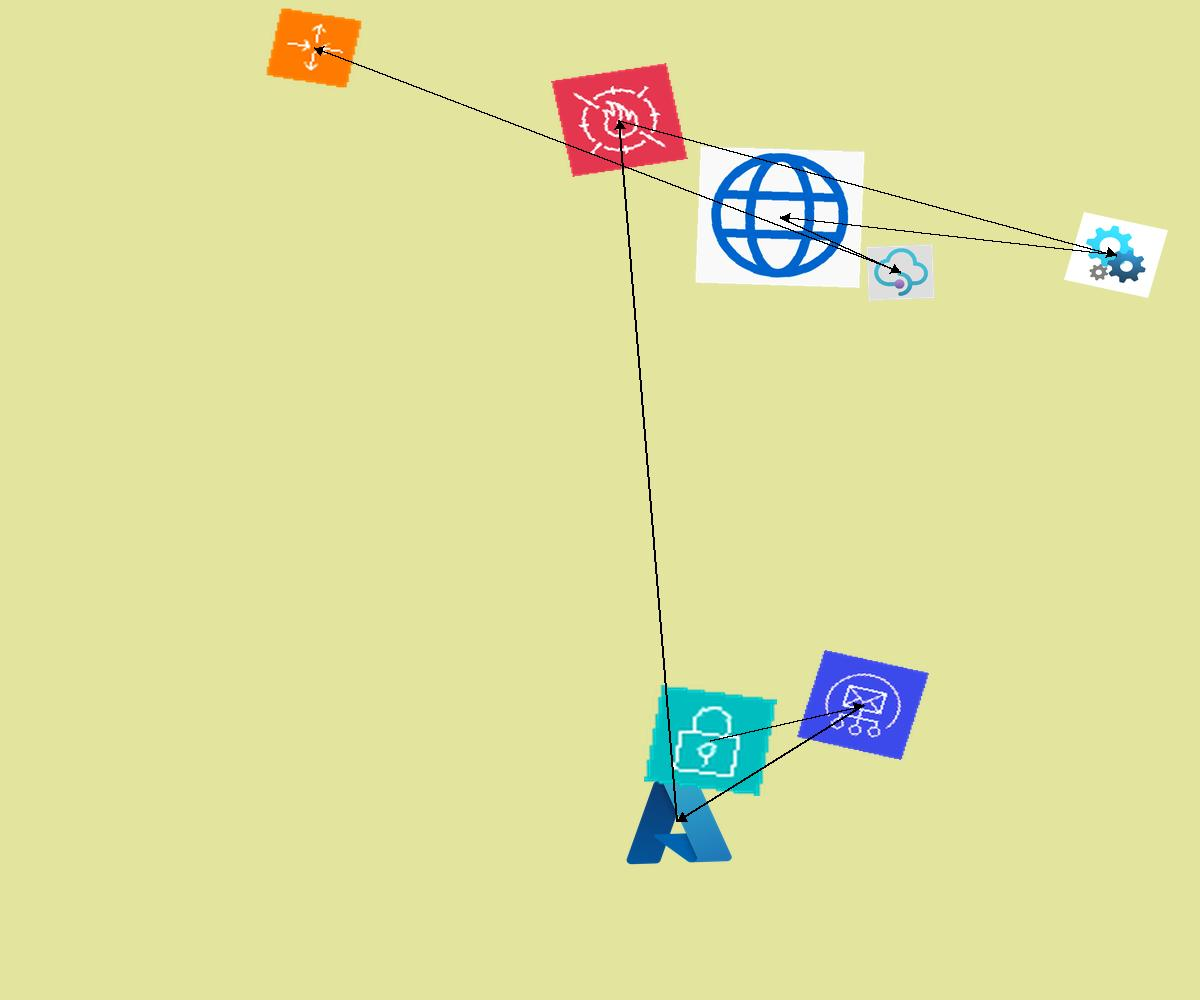AWS-Private-subnet: (644, 685, 777, 796)
AWS-Scaling-group: (265, 7, 363, 89)
AWS-Simple-Email-Service: (797, 650, 929, 760)
AWS-WAF: (551, 63, 688, 177)
Azure_api: (1064, 212, 1168, 298)
Azure_api_gateway: (866, 244, 935, 301)
Azure_http: (695, 146, 865, 288)
Azure_services: (618, 772, 737, 871)
